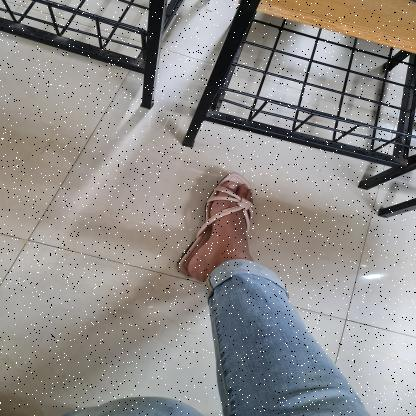leg: (161, 163, 266, 286)
